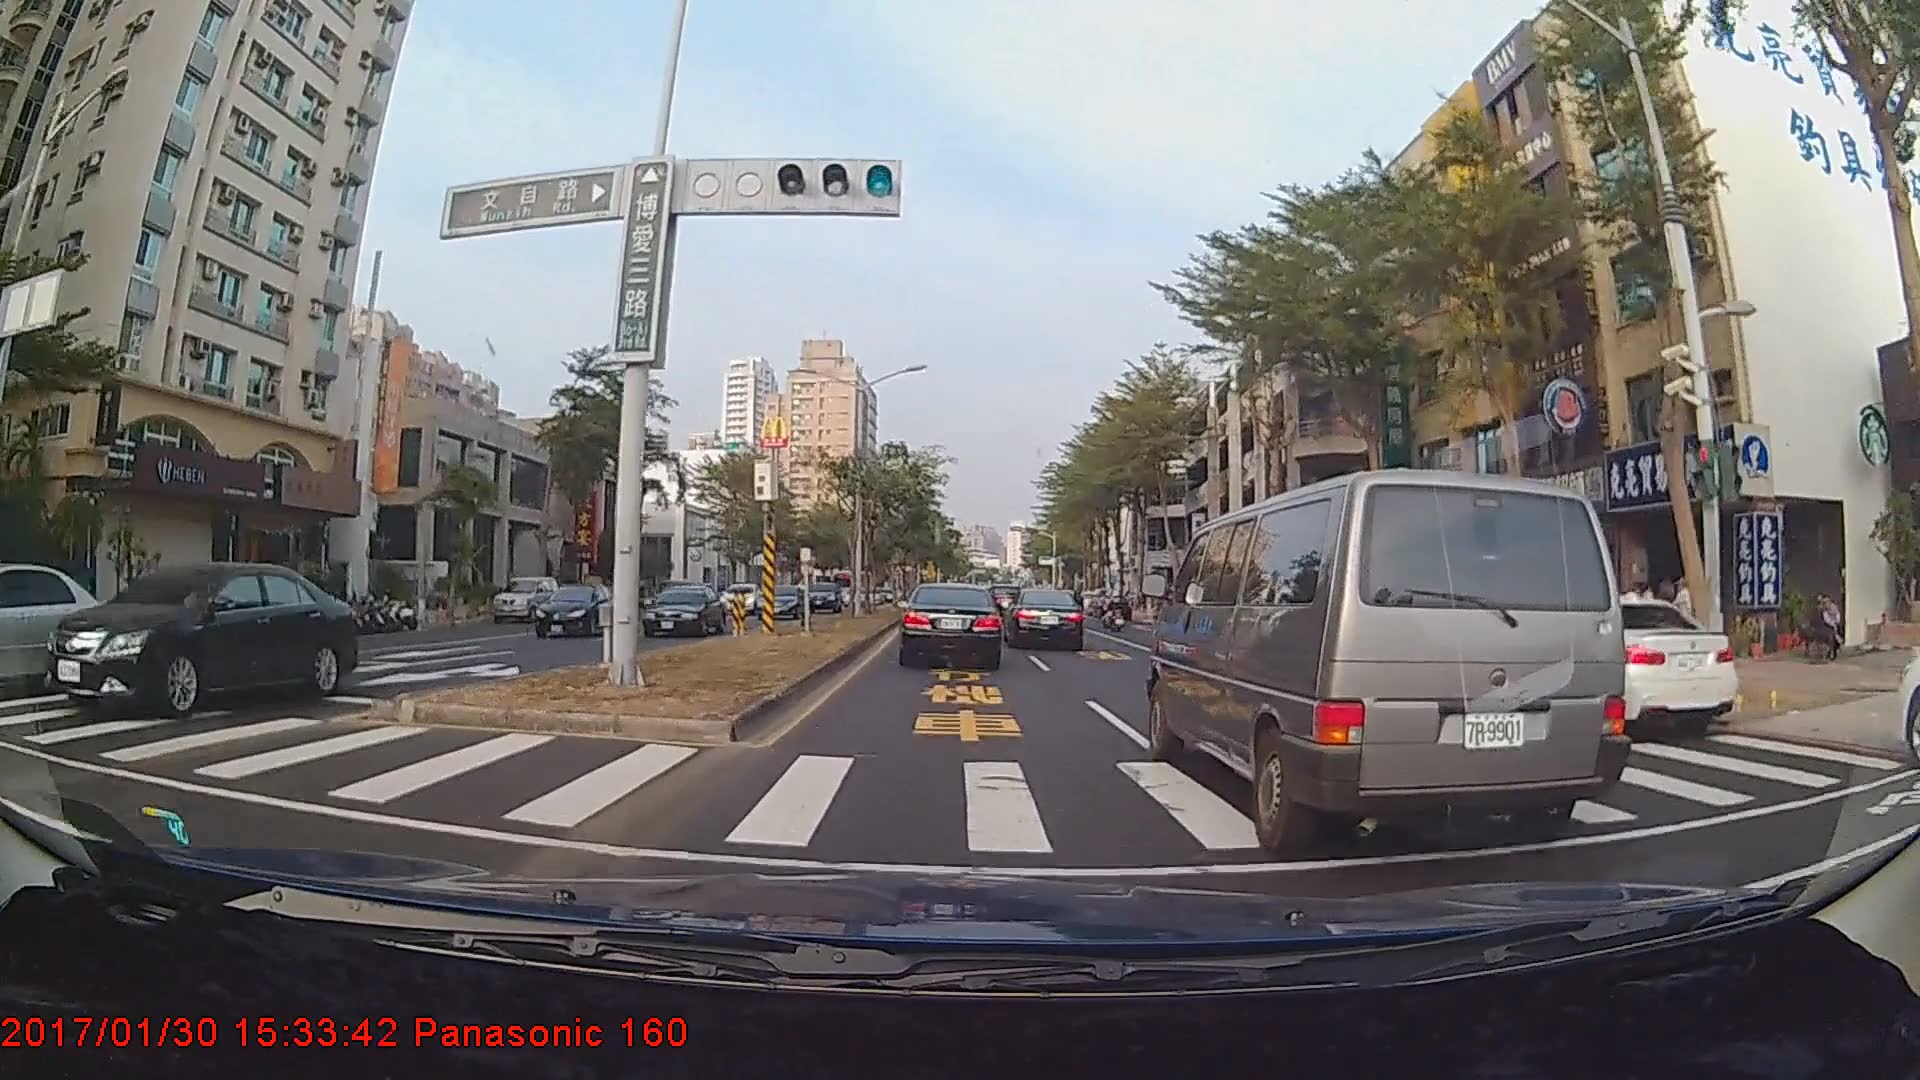vehicle: (1154, 462, 1636, 843), (40, 562, 357, 717), (1393, 556, 1619, 725), (0, 560, 109, 699), (899, 584, 1004, 669), (1001, 589, 1085, 651), (531, 582, 620, 640), (640, 583, 724, 636), (491, 574, 562, 622), (756, 585, 804, 618), (802, 578, 841, 611)
